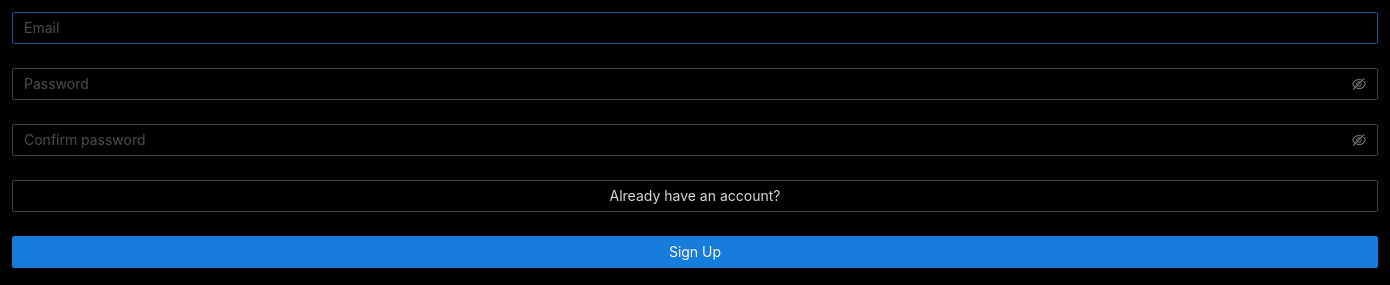
Test: SignUp › has validation message appeared on password mismatch
This screenshot has width=1390, height=285.
Type "test@test.com" into the field with placeholder "Email" at (695, 28), box [12, 12, 1378, 44]
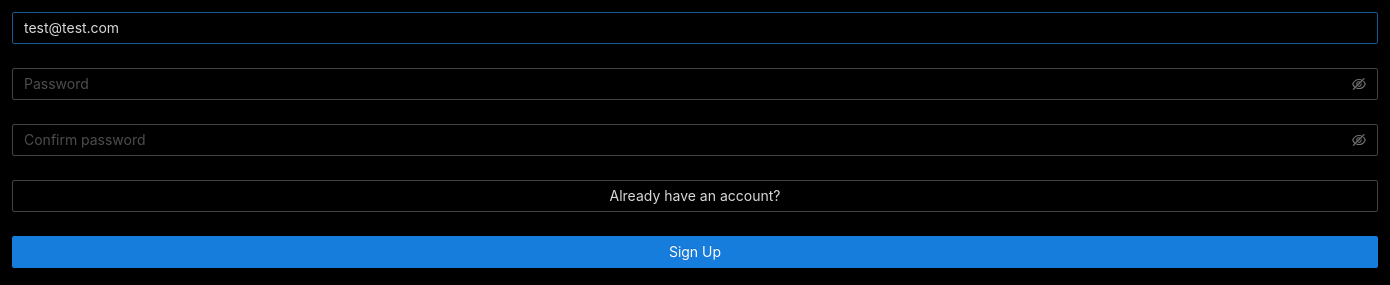
Type "test" into the password field with placeholder "Password" at (686, 84), box [24, 73, 1348, 95]
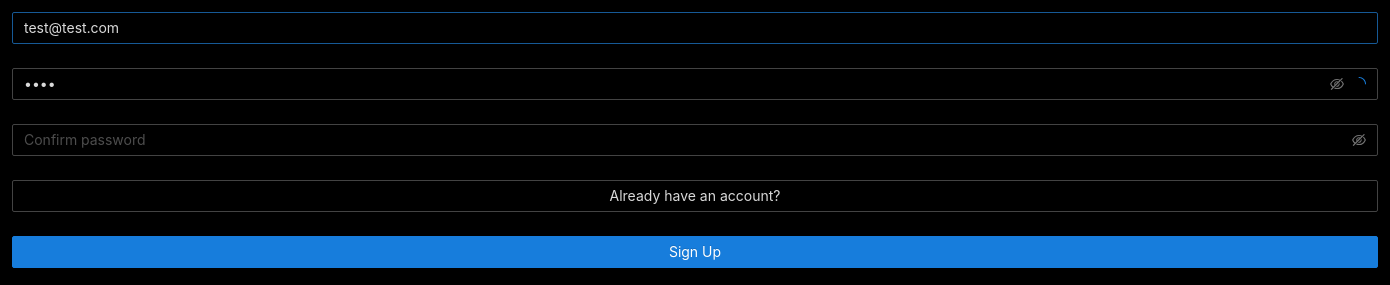
Type "testtest" into the password field with placeholder "Confirm password" at (686, 140), box [24, 129, 1348, 151]
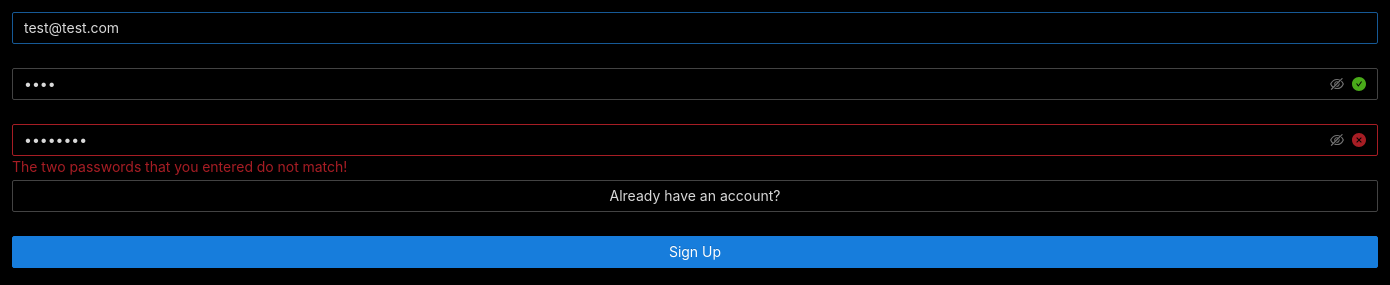
Check: the message "The two passwords that you entered do not match!" is shown, box [12, 158, 347, 175]
